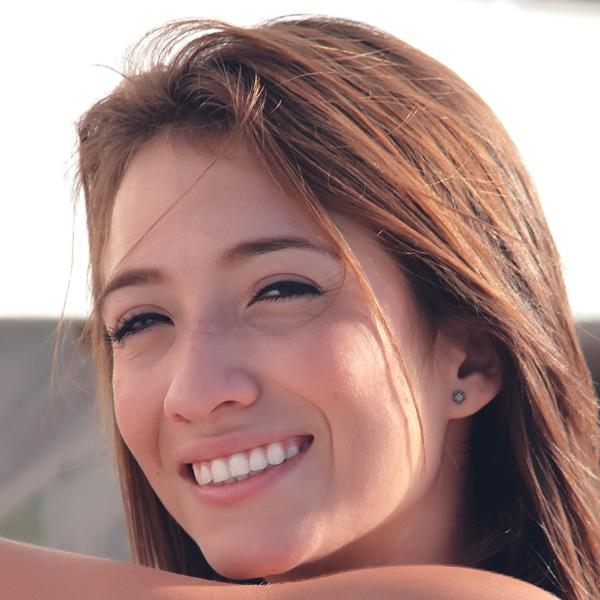Eyes: (231, 261, 332, 324), (104, 291, 185, 352)
